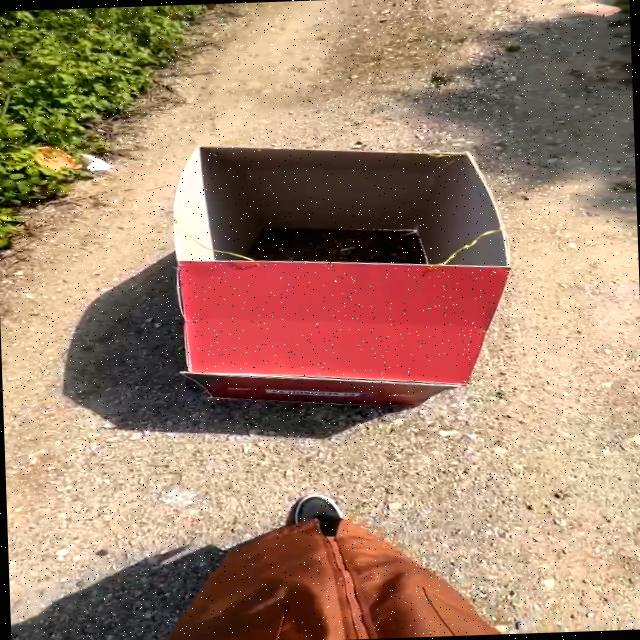red_car: (141, 119, 564, 432)
